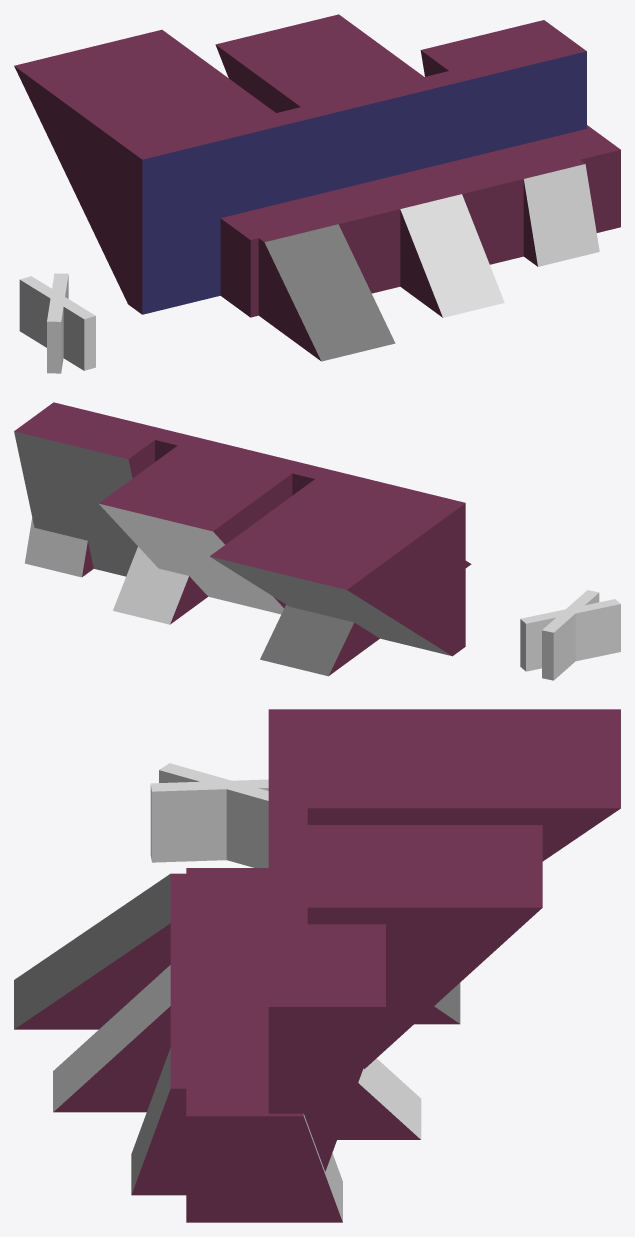
The model's file is gym.glb.
3 renders of one model, top to bottom at view 1: azimuth 30°, elevation 25°; view 2: azimuth 150°, elevation 25°; view 3: azimuth 270°, elevation 25°, orthographic. The views are drawn at different scales.
Parts seen in each view (by area): view 1: Cube.003, Cube, Cube.004, Cube.002, Cube.001; view 2: Cube.003, Cube.004, Cube.001, Cube.002; view 3: Cube.003, Cube, Cube.004, Cube.002, Cube.001.
Part boxes in pixels (x1,y1,x2,y2): Cube.003: (14, 14, 586, 314); Cube: (229, 138, 599, 361); Cube.004: (220, 125, 620, 317); Cube.002: (19, 276, 95, 370); Cube.001: (47, 273, 68, 373); Cube.003: (14, 402, 465, 656); Cube.004: (24, 518, 379, 676); Cube.001: (520, 599, 620, 671); Cube.002: (542, 590, 599, 680); Cube.003: (268, 709, 620, 1171); Cube: (14, 873, 268, 1195); Cube.004: (186, 868, 460, 1222); Cube.002: (150, 779, 268, 862); Cube.001: (159, 763, 268, 867).
Size of what is drawn, in the model's own units: 23.49 by 6 by 15.5.
